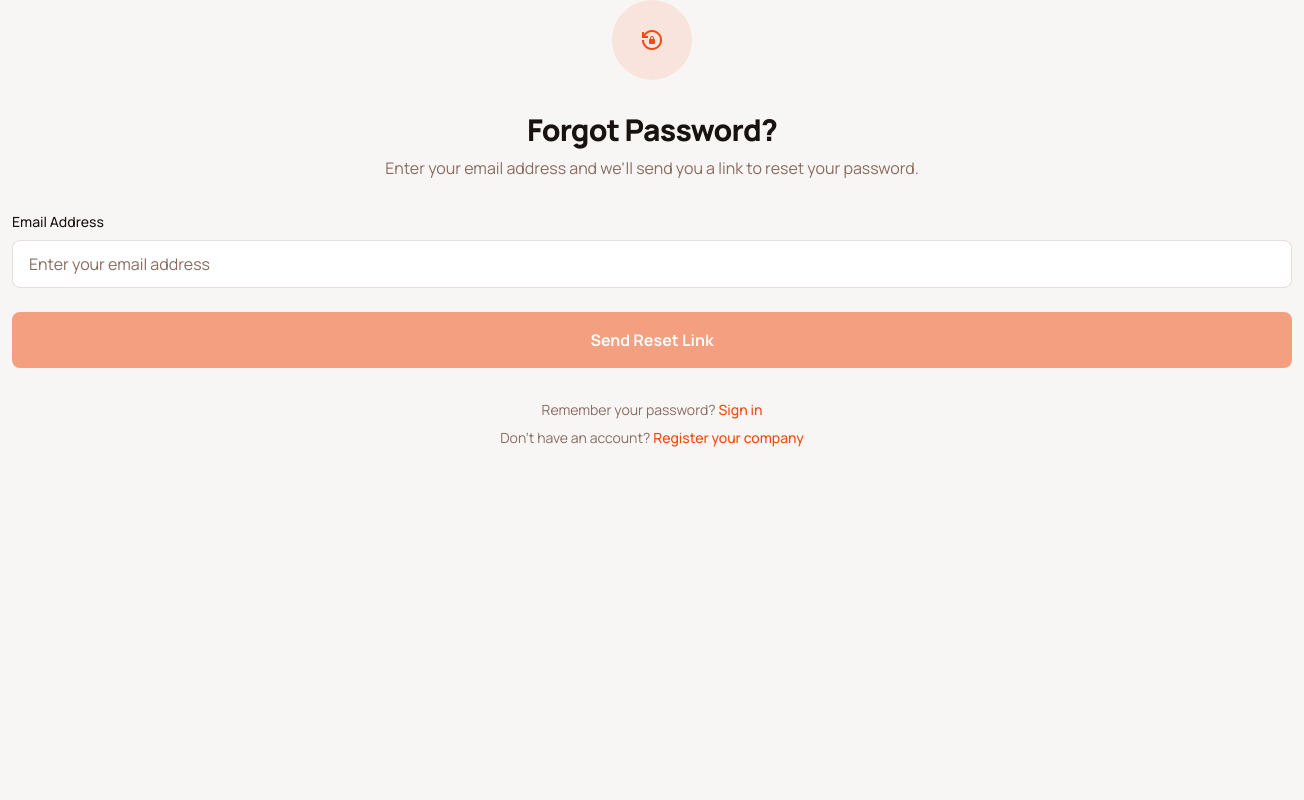
ForgotPasswordPage (SOUPFIN-186) › shows an error, not "link sent", when the request fails at the network level
The width and height of the screenshot is (1304, 800).
Type "jane@acme.com" into the field with test id "forgot-password-email-input".
click(652, 264); type("jane@acme.com")  # box [12,240,1292,288]
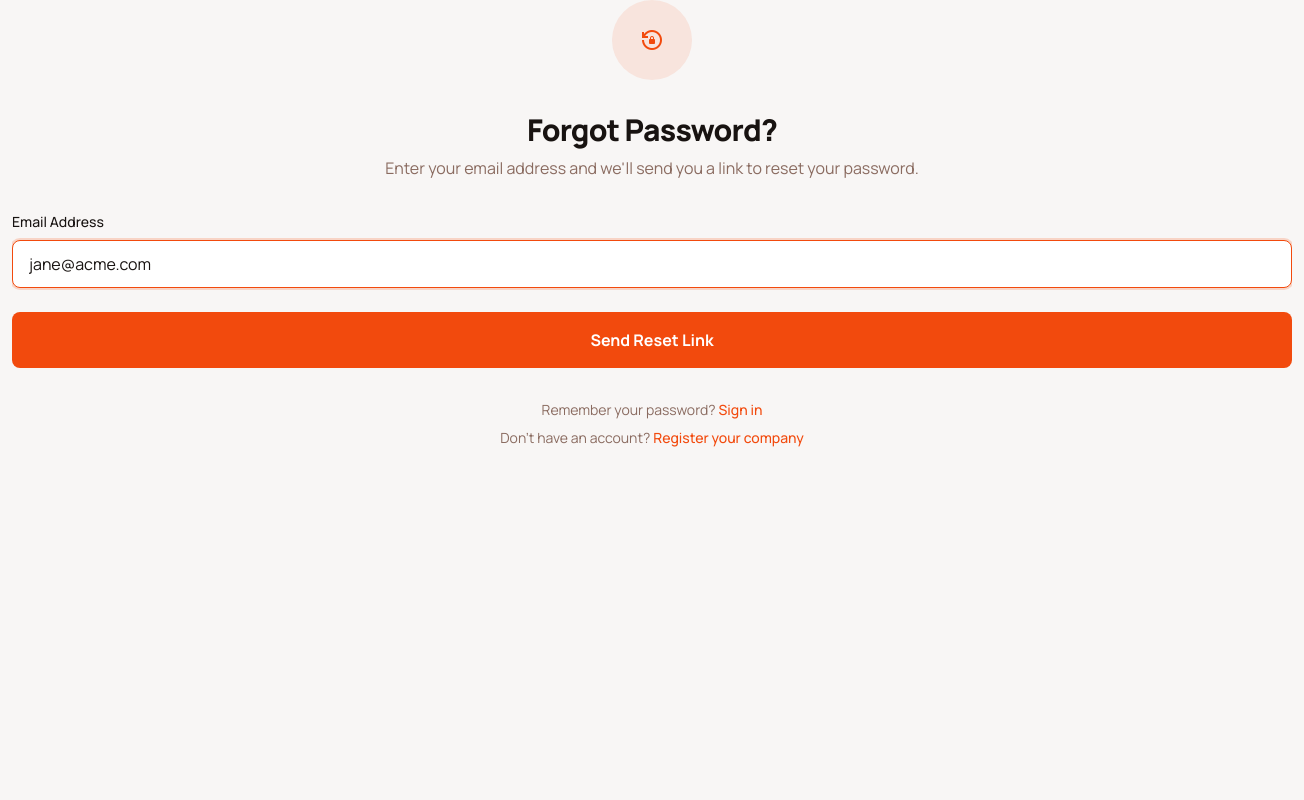
Click the button with test id "forgot-password-submit-button".
click(652, 340)  # box [12,312,1292,368]
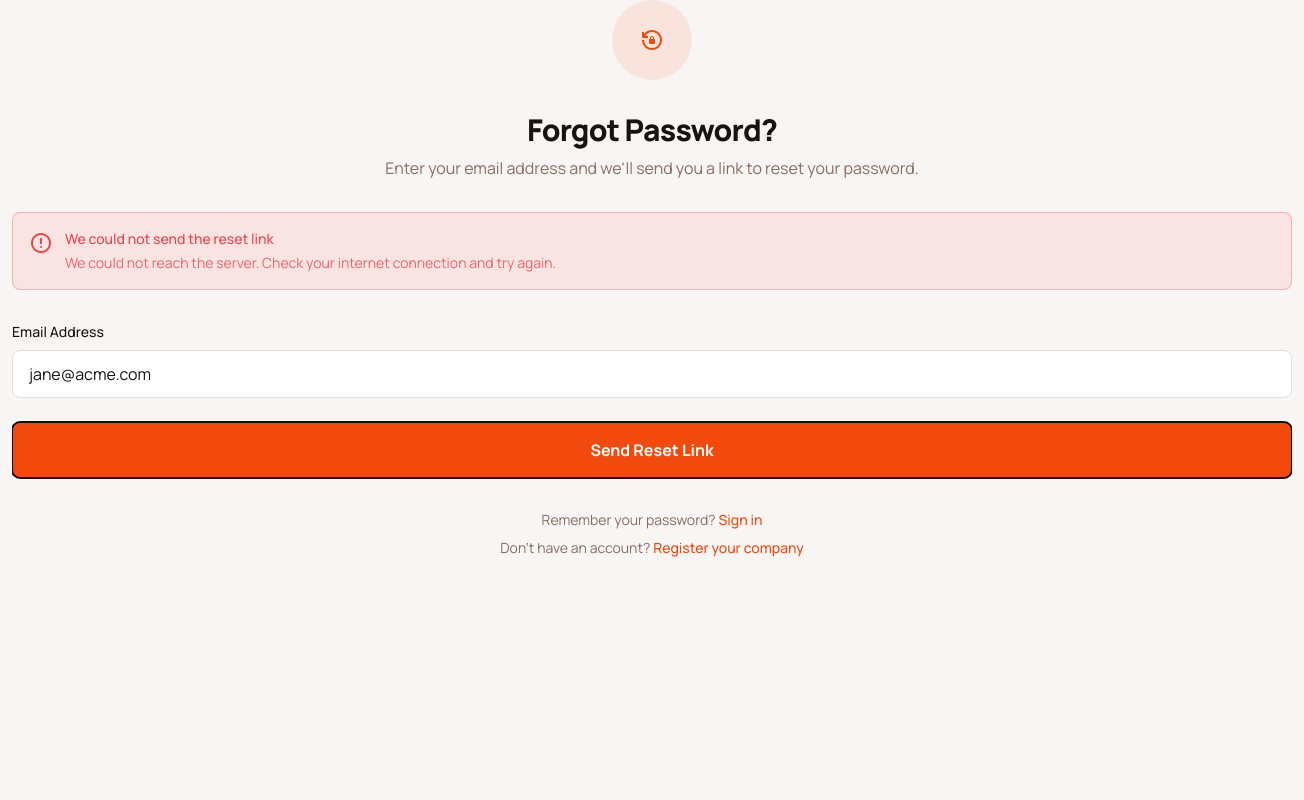
Now the button with test id "forgot-password-submit-button" is enabled, box [12,422,1292,478]
Now the message with test id "forgot-password-error" shows "We could not send the reset link", box [65,229,274,248]
Now the text with test id "forgot-password-error-message" shows "could not reach the server", box [65,253,556,272]
